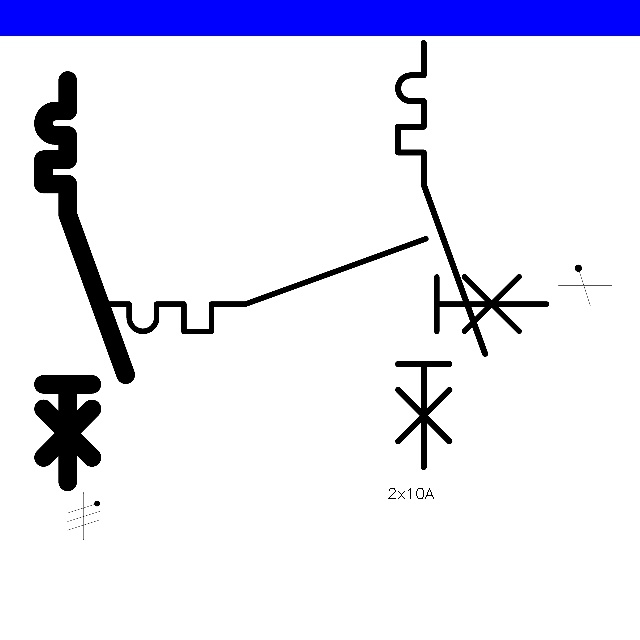interruptor_termomagnetico: (83, 227, 558, 343), (387, 32, 496, 478), (33, 70, 136, 492)
